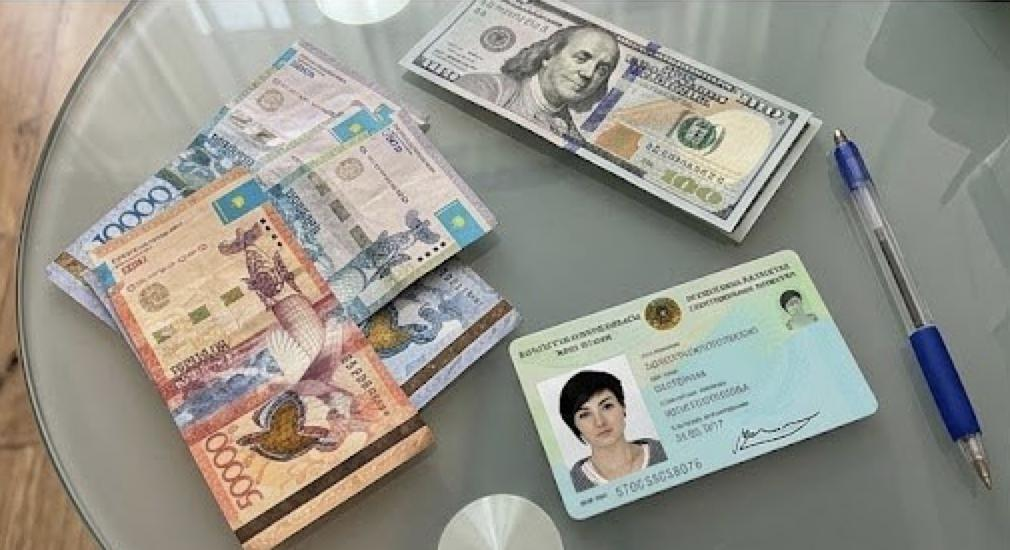cash_stack: (44, 47, 513, 514), (395, 2, 822, 252)
document: (501, 249, 882, 530)
